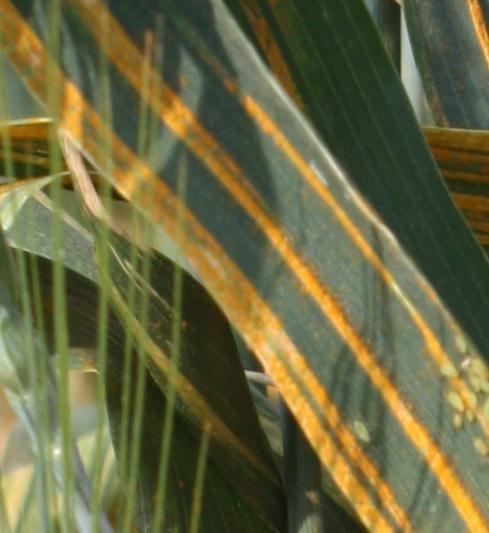Wheat: (43, 91, 419, 533), (149, 96, 486, 533)
